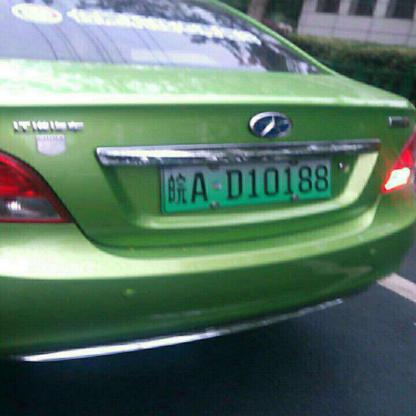lp: (162, 159, 330, 212)
